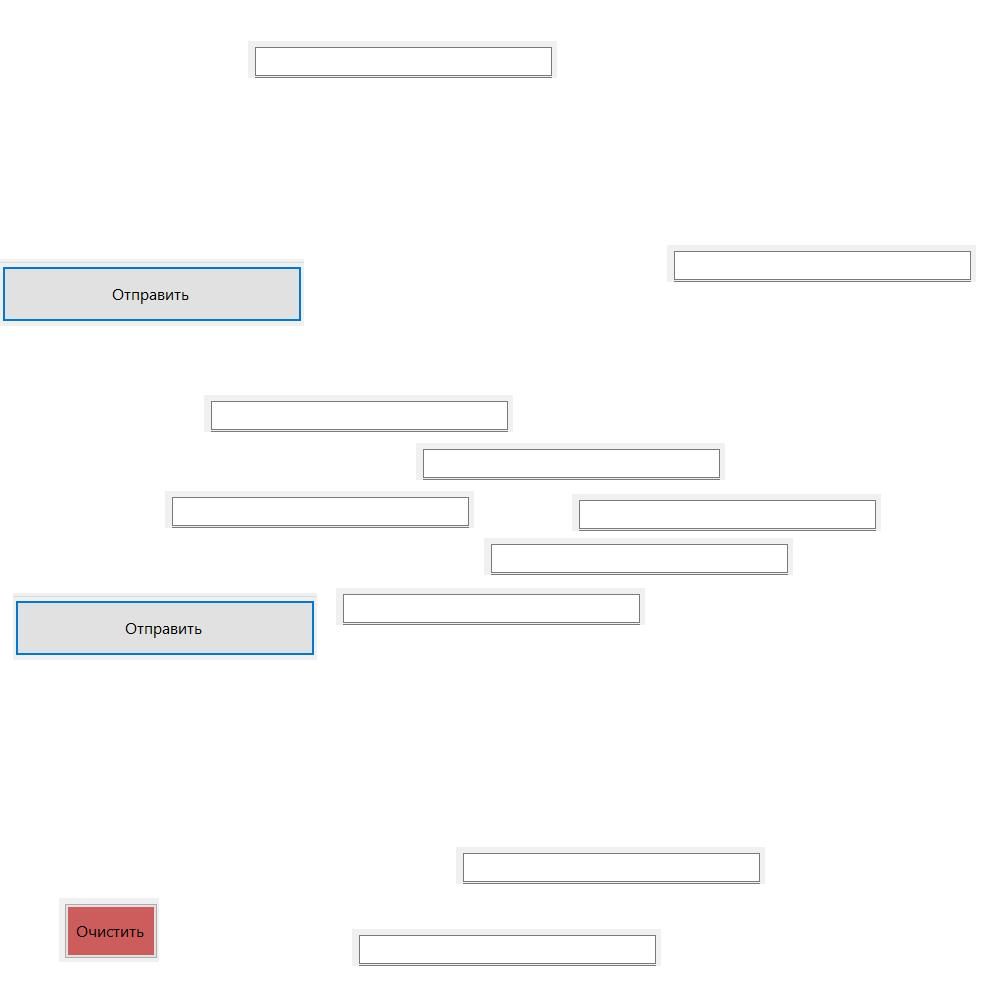Button: (0, 259, 304, 326), (13, 593, 317, 660), (59, 898, 159, 962)
EditText-: (484, 538, 793, 575), (165, 491, 474, 528), (352, 929, 661, 966), (667, 245, 976, 282), (204, 395, 513, 432), (416, 443, 725, 480), (336, 588, 645, 625), (572, 494, 881, 531), (456, 847, 765, 884), (248, 41, 557, 78)
